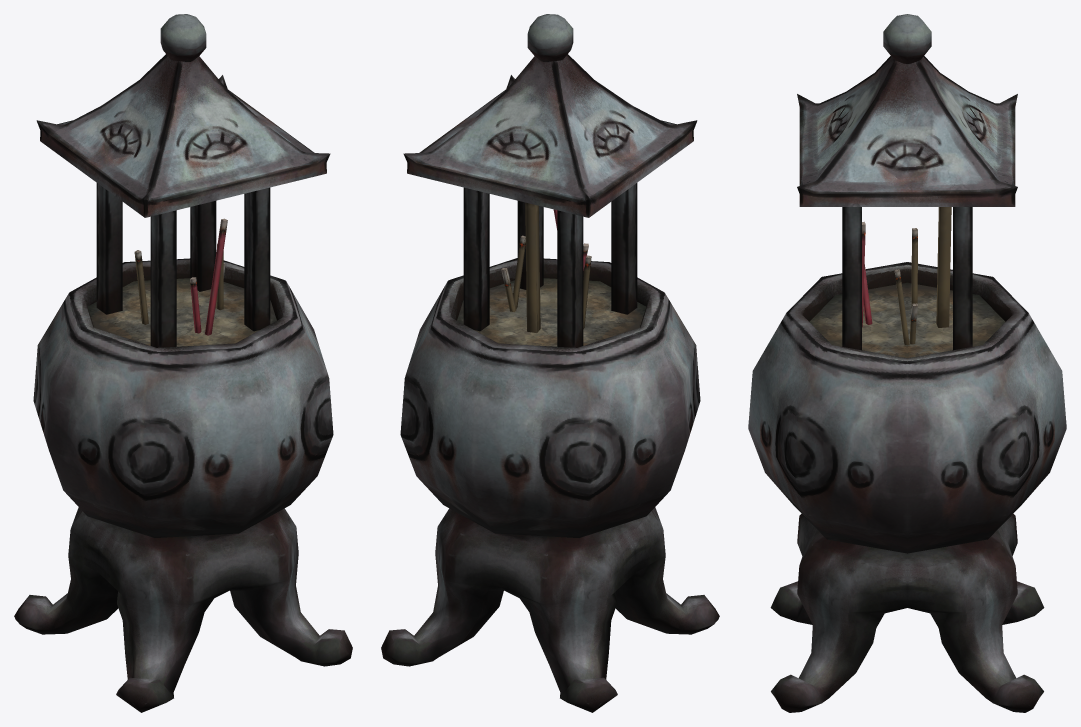
Rendered from PRP_FragrantPotB.FBX.
The picture shows the model from 3 angles, left to right: view 1: azimuth 30°, elevation 25°; view 2: azimuth 150°, elevation 25°; view 3: azimuth 270°, elevation 25°; orthographic projection. The views are drawn at different scales.
Parts seen in each view (by area): view 1: PRP_FragrantPotB; view 2: PRP_FragrantPotB; view 3: PRP_FragrantPotB.
Part boxes in pixels (x1,y1,x2,y2): PRP_FragrantPotB: (14,14,352,712); PRP_FragrantPotB: (381,14,719,712); PRP_FragrantPotB: (748,14,1066,712).
Bounding box in the file's own units: 155 × 349 × 155.
